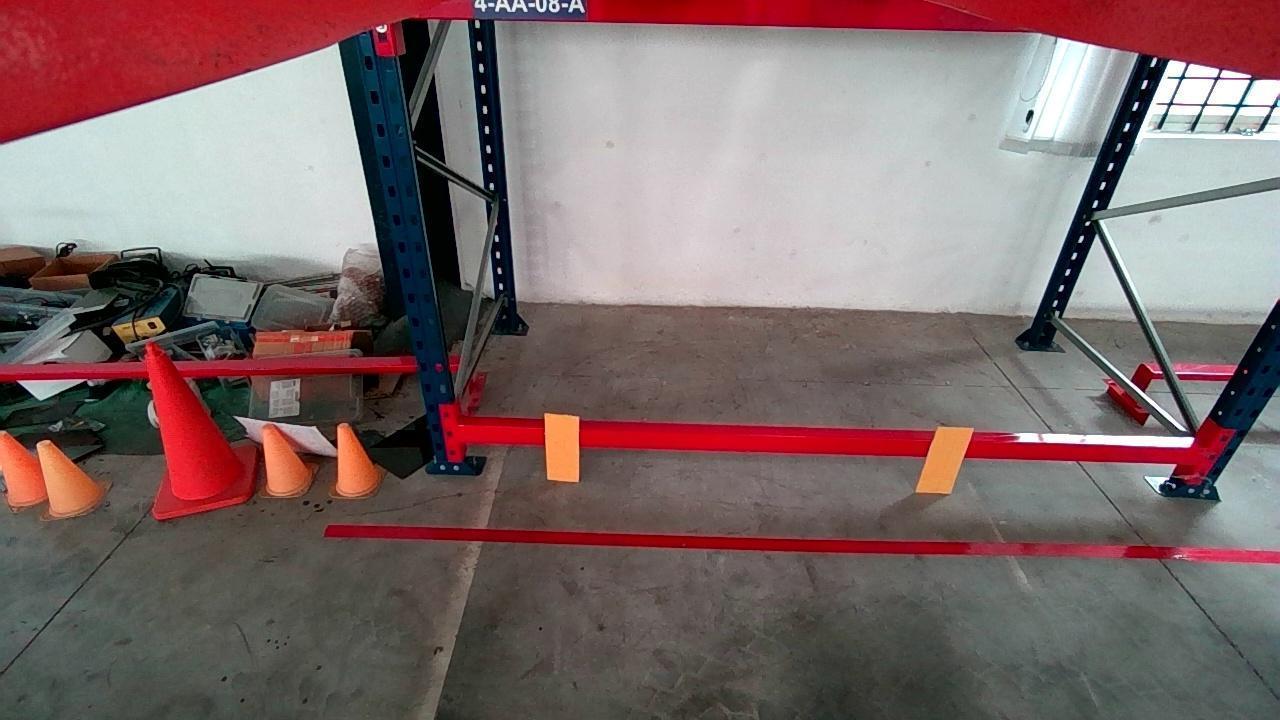h_rack: (461, 426, 1198, 462), (399, 0, 1028, 32)
orange_strip: (917, 428, 974, 496), (545, 416, 578, 481)
red_line: (325, 521, 1280, 563)
